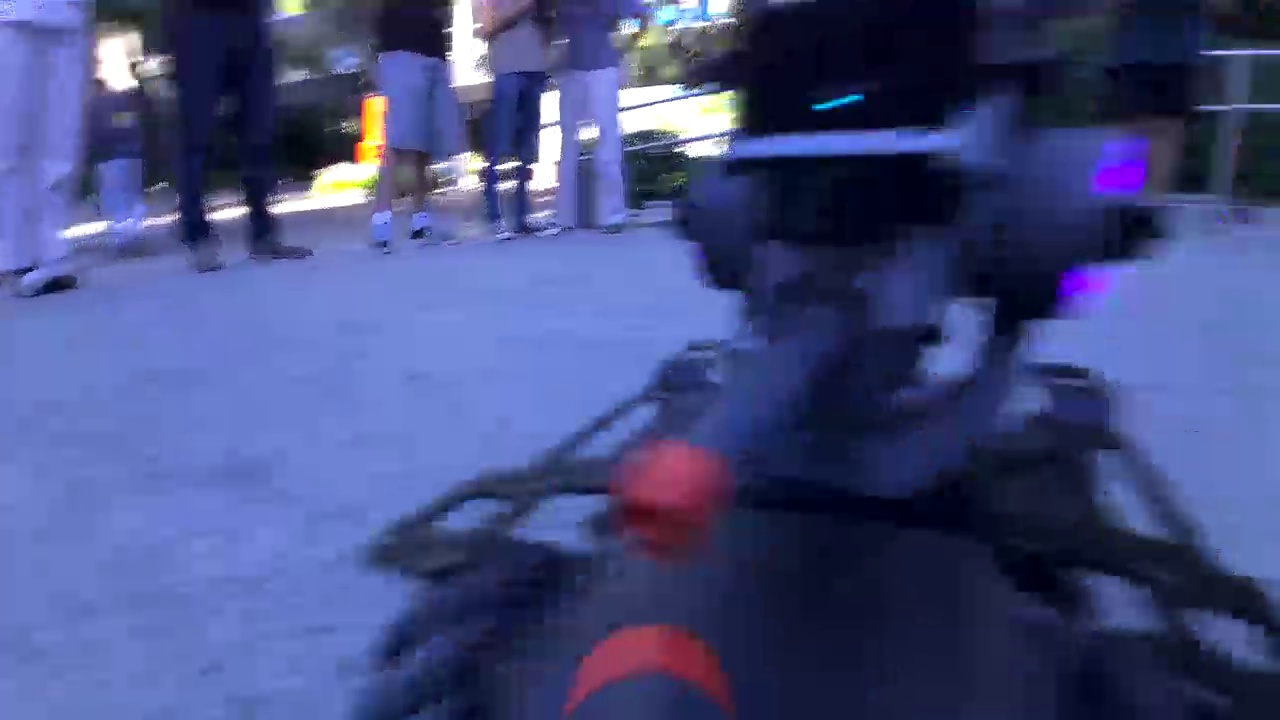robot: (390, 1, 1280, 720)
